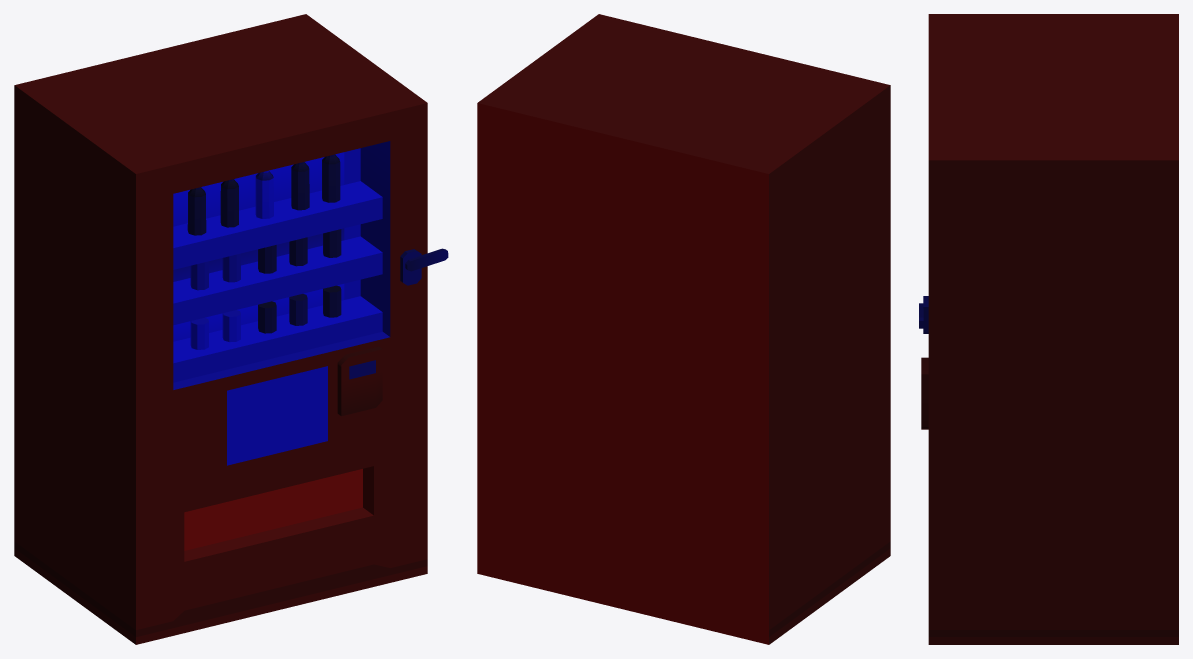
The model's file is VendingMachine003.glb.
3 views of the same model, side by side, from view 1: azimuth 30°, elevation 25°; view 2: azimuth 150°, elevation 25°; view 3: azimuth 270°, elevation 25° (orthographic). The views are drawn at different scales.
Visible parts, largest first — view 1: VendingMachine003; view 2: VendingMachine003; view 3: VendingMachine003.
Part boxes in pixels (x1,y1,x2,y2): VendingMachine003: (14, 14, 448, 644); VendingMachine003: (477, 14, 890, 644); VendingMachine003: (919, 14, 1178, 644).
Bounding box in the file's own units: 8.05 × 11.77 × 5.72.
